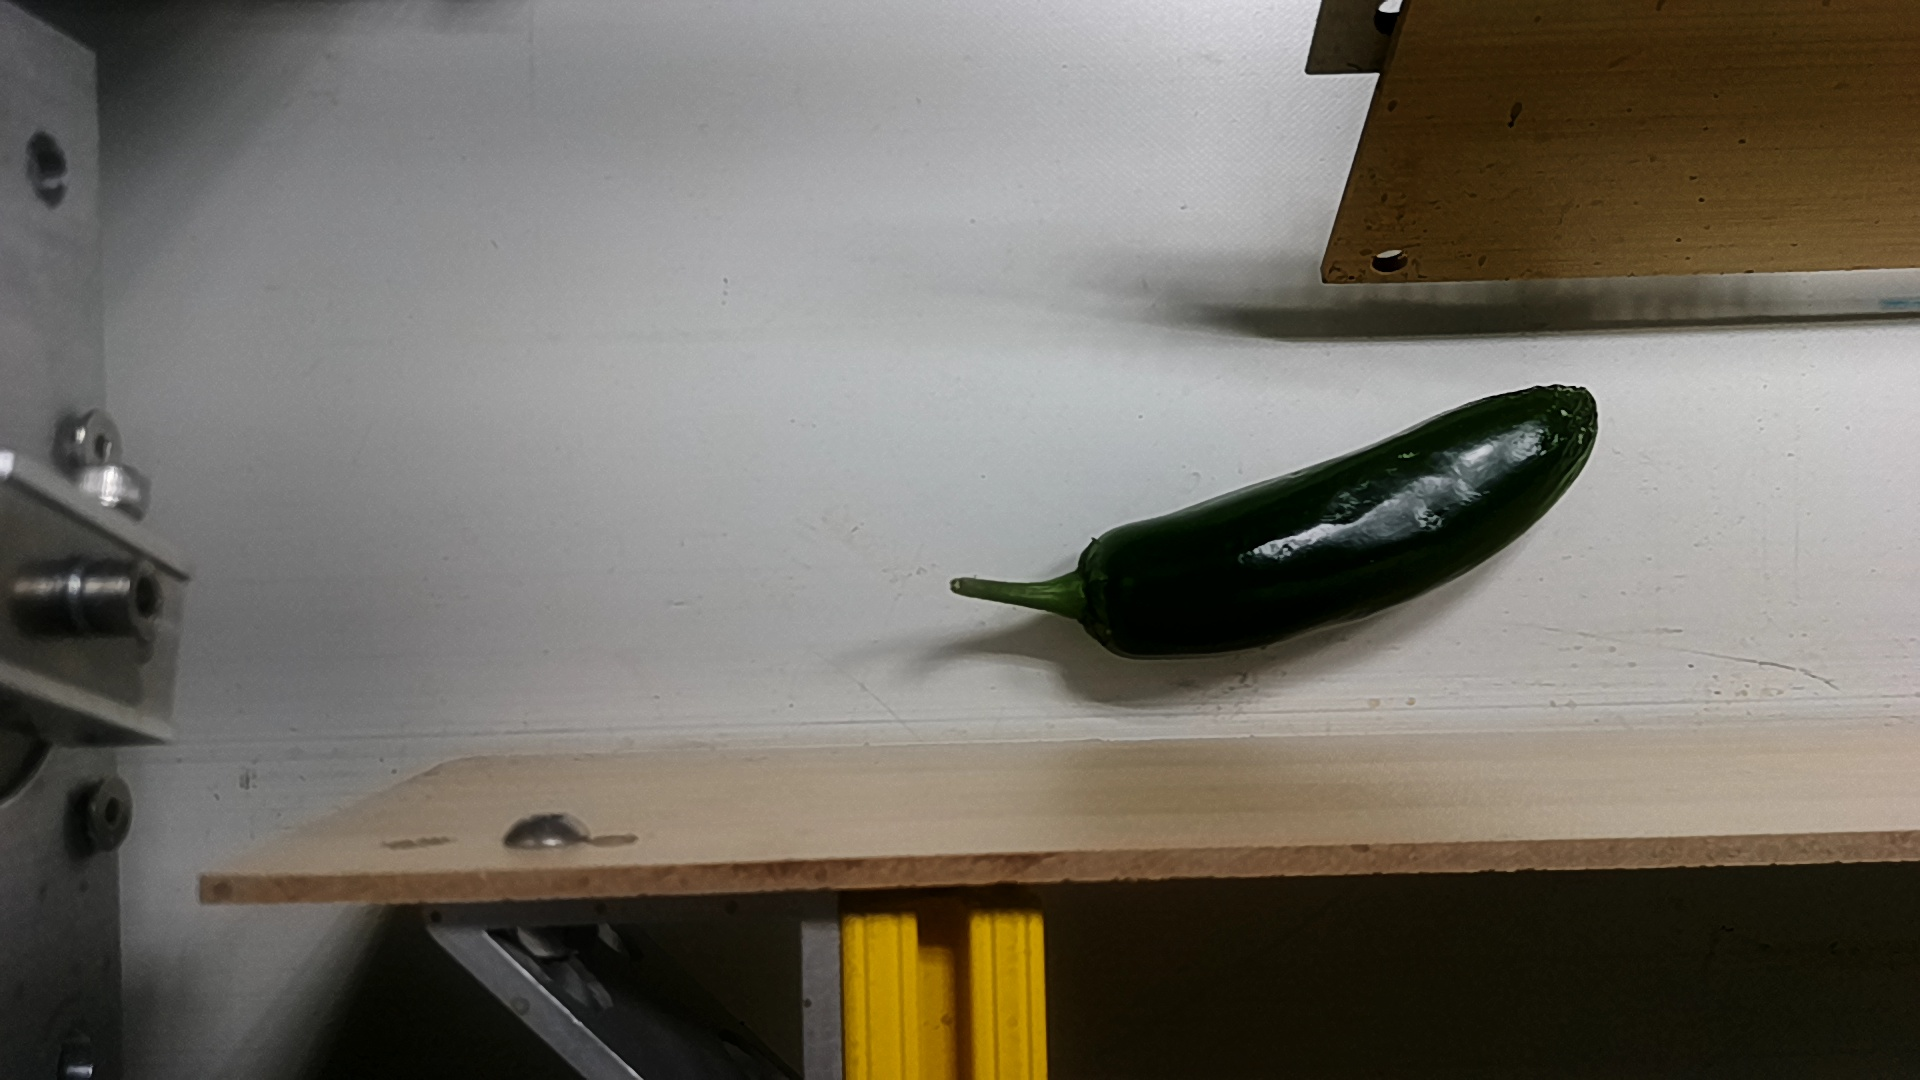Cut Point: (1046, 529, 1156, 665)
